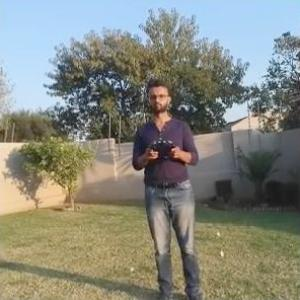follow: (125, 74, 206, 299)
